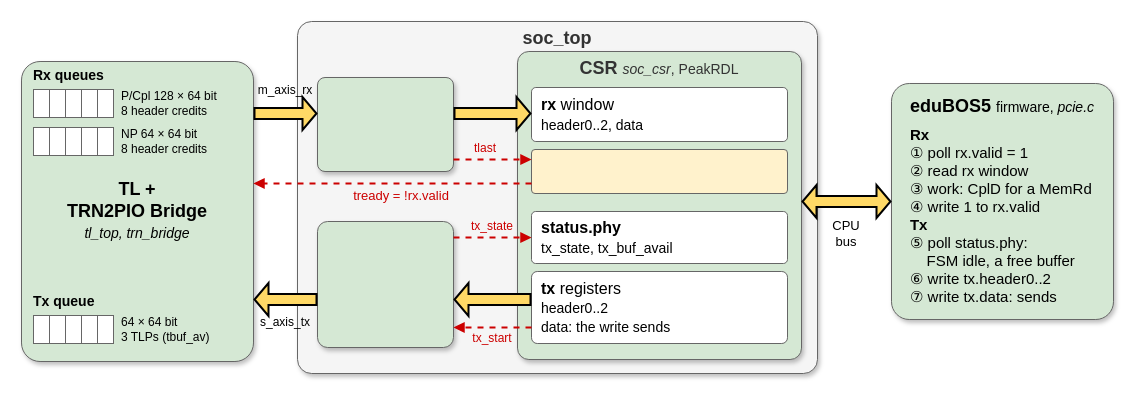
This 1137x398 diagram has some shape labels left out. The centre of each missing label's shape, as x and y in pixels:
"Rx capture first 2 beats of each TLP" belongs at point (386, 125).
"rx.valid (write 1 to clear)" belongs at point (659, 171).
"Tx FSM 2 beats on tx_start" belongs at point (386, 285).
